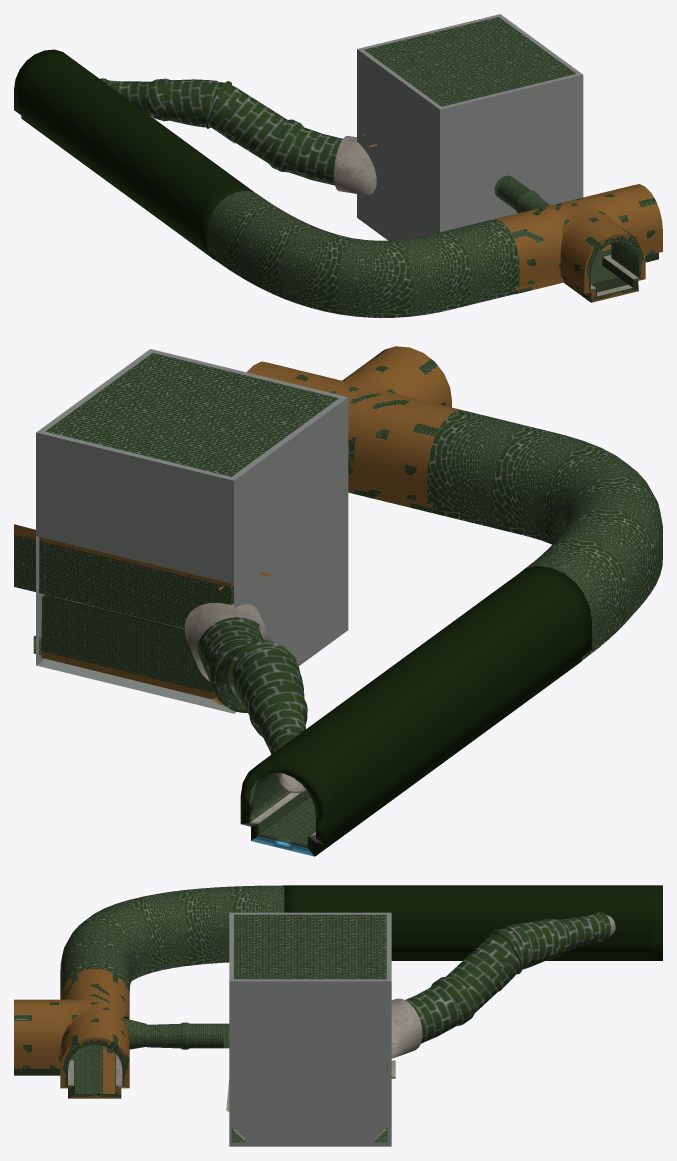
File: Sewer_OliverRoom.fbx
3 views of the same model, one above another, from view 1: azimuth 30°, elevation 25°; view 2: azimuth 150°, elevation 25°; view 3: azimuth 270°, elevation 25° (orthographic). The views are drawn at different scales.
Visible parts, largest first — view 1: Walls.002, Curve_Small.005, Module_straight.main.008, Module_Circular_Pipe_UVDone.027, Module_perfect pipe.009, Module_perfect pipe.008; view 2: Walls.002, Module_straight.main.008, Curve_Small.005, Module_Circular_Pipe_UVDone.027, Module_perfect pipe.009; view 3: Walls.002, Module_straight.main.008, Curve_Small.005, Module_Circular_Pipe_UVDone.027, Module_perfect pipe.009, Module_perfect pipe.008.
Part boxes in pixels (left/top/right/bottom): Walls.002: left=334, top=14, right=583, bottom=240; Curve_Small.005: left=207, top=191, right=519, bottom=317; Module_straight.main.008: left=14, top=49, right=254, bottom=259; Module_Circular_Pipe_UVDone.027: left=494, top=184, right=662, bottom=302; Module_perfect pipe.009: left=100, top=78, right=342, bottom=185; Module_perfect pipe.008: left=498, top=178, right=549, bottom=213; Walls.002: left=14, top=349, right=348, bottom=713; Module_straight.main.008: left=240, top=566, right=591, bottom=856; Curve_Small.005: left=427, top=409, right=662, bottom=660; Module_Circular_Pipe_UVDone.027: left=247, top=346, right=463, bottom=512; Module_perfect pipe.009: left=198, top=617, right=307, bottom=792; Walls.002: left=223, top=912, right=422, bottom=1146; Module_straight.main.008: left=284, top=885, right=662, bottom=960; Curve_Small.005: left=60, top=885, right=284, bottom=998; Module_Circular_Pipe_UVDone.027: left=14, top=968, right=146, bottom=1098; Module_perfect pipe.009: left=405, top=912, right=615, bottom=1043; Module_perfect pipe.008: left=146, top=1022, right=223, bottom=1049.
Size of the model in its own units: 6132 by 2700 by 9600.
